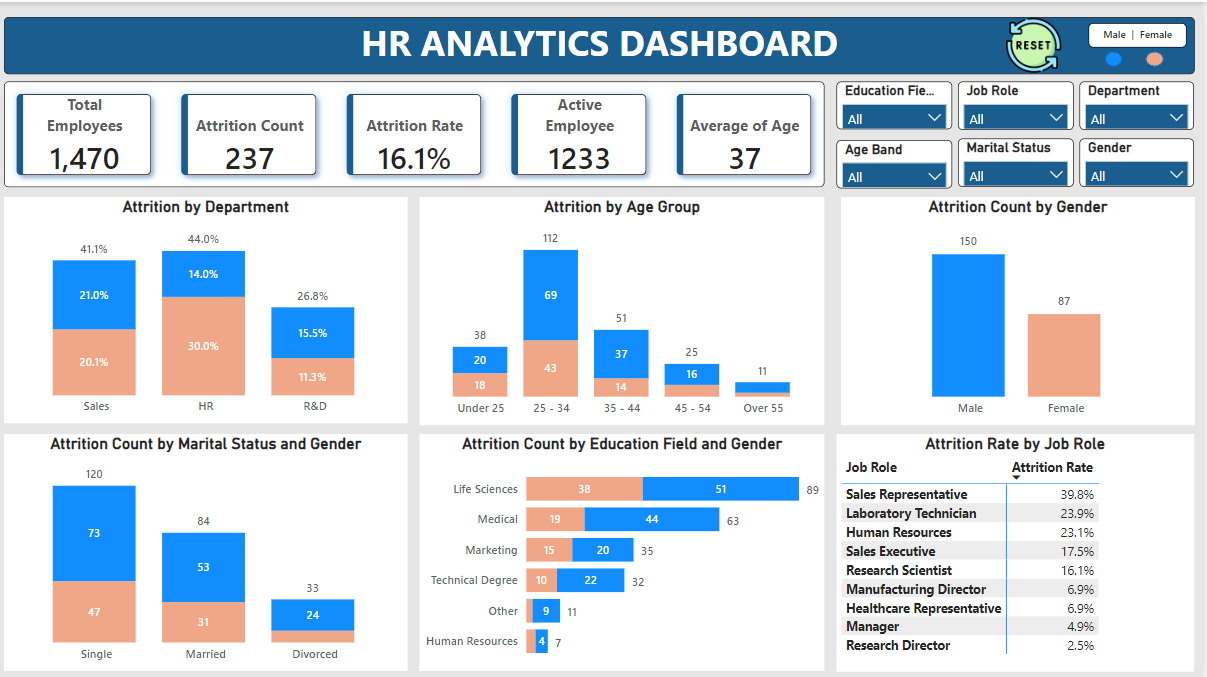

Layout of this report page (visuals, bound fields, positions):
{"tool":"powerbi","page":{"name":"Page 1","canvas":[1280,720],"ordinal":0},"visuals":[{"type":"cardVisual","fields":{"Data":["CountNonNull(HR data.Employee Count)","HR data.Attrition Count","HR data.Attrition Rate","HR data.Active Employee","Avg(HR data.Age)"]},"box":[9.5,85,870.1,112],"z":0},{"type":"columnChart","title":"Attrition by Department","fields":{"Category":["HR data.Department"],"Series":["HR data.Gender"],"Y":["HR data.Attrition Rate"]},"box":[9.5,206.8,427.9,240.2],"z":1000},{"type":"columnChart","fields":{"Category":["HR data.Gender"],"Y":["HR data.Attrition Count"]},"box":[897.1,206.8,375.4,241.8],"z":2000},{"type":"barChart","fields":{"Category":["HR data.Education Field"],"Y":["HR data.Attrition Count"],"Series":["HR data.Gender"]},"box":[450.1,458.1,429.5,251.3],"z":3000},{"type":"columnChart","title":"Attrition by Age Group","fields":{"Category":["HR data.CF_age band"],"Y":["HR data.Attrition Count"],"Series":["HR data.Gender"]},"box":[450.1,206.8,429.5,241.8],"z":4000},{"type":"pivotTable","title":"Attrition Rate by Job Role","fields":{"Rows":["HR data.Job Role"],"Values":["HR data.Attrition Rate"]},"box":[892.9,457.7,379,252.1],"z":5000},{"type":"columnChart","fields":{"Category":["HR data.Marital Status"],"Y":["HR data.Attrition Count"],"Series":["HR data.Gender"]},"box":[9.5,458.1,427.9,251.3],"z":6000},{"type":"textbox","box":[9.5,15.9,1262.9,60.4],"z":7000},{"type":"slicer","fields":{"Values":["HR data.Department"]},"box":[1150,83.8,121.2,51.2],"z":8000},{"type":"slicer","fields":{"Values":["HR data.Gender"]},"box":[1150,145,121.2,51.2],"z":9000},{"type":"slicer","fields":{"Values":["HR data.Job Role"]},"box":[1021.2,83.8,122.5,51.2],"z":10000},{"type":"slicer","fields":{"Values":["HR data.Marital Status"]},"box":[1021.2,145,122.5,51.2],"z":11000},{"type":"slicer","fields":{"Values":["HR data.Education Field"]},"box":[892,84.3,122.5,50.9],"z":12000},{"type":"slicer","fields":{"Values":["HR data.CF_age band"]},"box":[892.5,146.2,122.5,51.2],"z":13000},{"type":"textbox","box":[1159,22,104,26],"z":14000,"group":"g1"},{"type":"shape","box":[1177,53,18,16],"z":15000,"group":"g1"},{"type":"shape","box":[1219,53,19,16],"z":16000,"group":"g1"},{"type":"group","id":"g1","title":"Group 1","box":[1159,22,104,47],"z":16001},{"type":"image","box":[1072.1,15.9,58.9,60.4],"z":16002}]}

Visuals, with their boxes in screenshot pixels (x1, y1, x2, y2), scaled from the page's 1280x720 canvas onto the 1207x677 screenshot:
cardVisual - CountNonNull(HR data.Employee Count) x HR data.Attrition Count: detection(9, 80, 829, 185)
"Attrition by Department" columnChart: detection(9, 194, 412, 420)
columnChart - HR data.Gender x HR data.Attrition Count: detection(846, 194, 1200, 422)
barChart - HR data.Education Field x HR data.Attrition Count: detection(424, 431, 829, 667)
"Attrition by Age Group" columnChart: detection(424, 194, 829, 422)
"Attrition Rate by Job Role" pivotTable: detection(842, 430, 1199, 667)
columnChart - HR data.Marital Status x HR data.Attrition Count: detection(9, 431, 412, 667)
textbox: detection(9, 15, 1200, 72)
slicer - HR data.Department: detection(1084, 79, 1199, 127)
slicer - HR data.Gender: detection(1084, 136, 1199, 184)
slicer - HR data.Job Role: detection(963, 79, 1078, 127)
slicer - HR data.Marital Status: detection(963, 136, 1078, 184)
slicer - HR data.Education Field: detection(841, 79, 957, 127)
slicer - HR data.CF_age band: detection(842, 137, 957, 186)
textbox: detection(1093, 21, 1191, 45)
shape: detection(1110, 50, 1127, 65)
shape: detection(1149, 50, 1167, 65)
"Group 1" group: detection(1093, 21, 1191, 65)
image: detection(1011, 15, 1066, 72)
